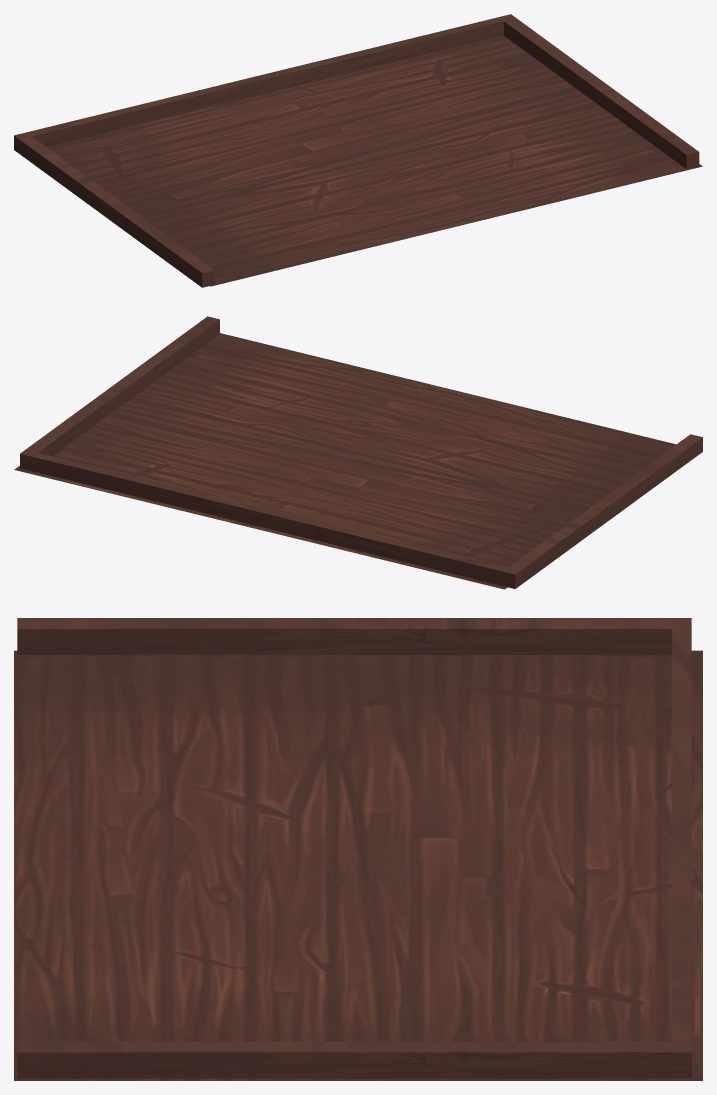
Rendered from floor.FBX.
3 renders of one model, top to bottom at view 1: azimuth 30°, elevation 25°; view 2: azimuth 150°, elevation 25°; view 3: azimuth 270°, elevation 25°, orthographic. The views are drawn at different scales.
Visible parts, largest first — view 1: Plane001, C-Ext010; view 2: Plane001, C-Ext010; view 3: Plane001, C-Ext010.
Part boxes in pixels (bbox=[...]): Plane001: bbox=[47, 35, 702, 286]; C-Ext010: bbox=[14, 14, 699, 287]; Plane001: bbox=[14, 333, 676, 589]; C-Ext010: bbox=[20, 316, 702, 588]; Plane001: bbox=[14, 650, 702, 1080]; C-Ext010: bbox=[17, 618, 691, 1078].
Bounding box in the file's own units: 1073 × 30 × 715.
2 materials, 2 textured.
